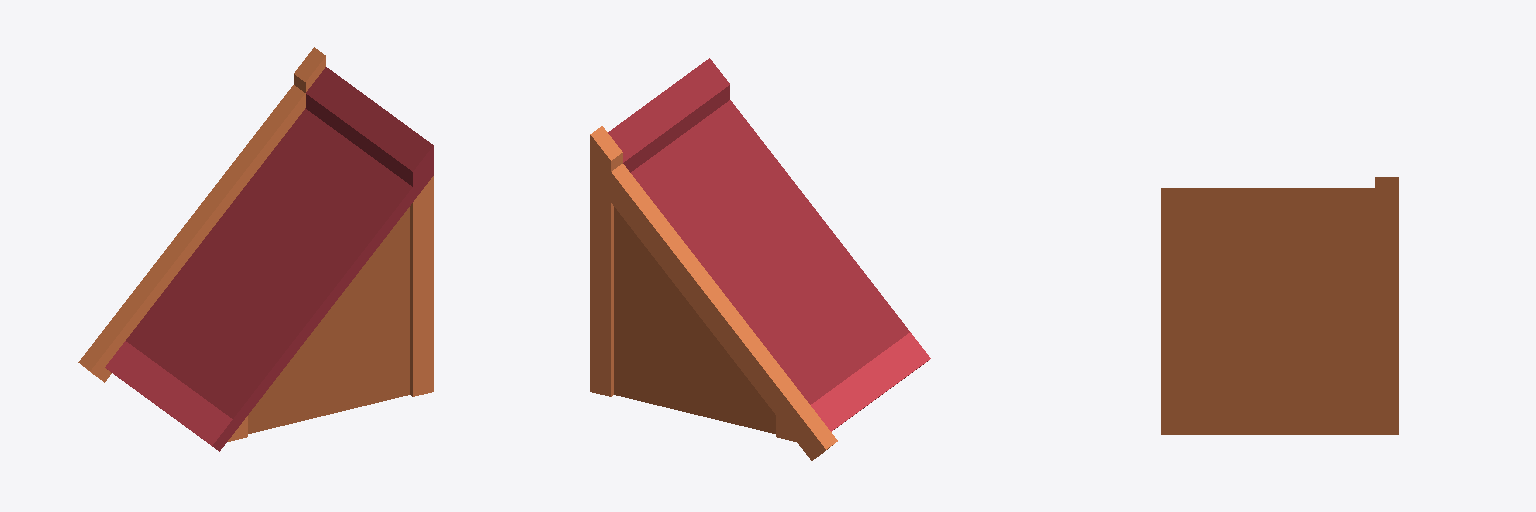
Rendered from roofHighLeft.obj.
3 views of the same model, side by side, from view 1: azimuth 30°, elevation 25°; view 2: azimuth 150°, elevation 25°; view 3: azimuth 270°, elevation 25° (orthographic).
Parts seen in each view (by area): view 1: roofHighLeft; view 2: roofHighLeft; view 3: roofHighLeft.
Boxes of the visible parts, <box> form: roofHighLeft: <box>78,47,433,451</box>; roofHighLeft: <box>590,58,930,460</box>; roofHighLeft: <box>1161,177,1398,434</box>.
Size of the model in its own units: 1.14 by 1.26 by 1.